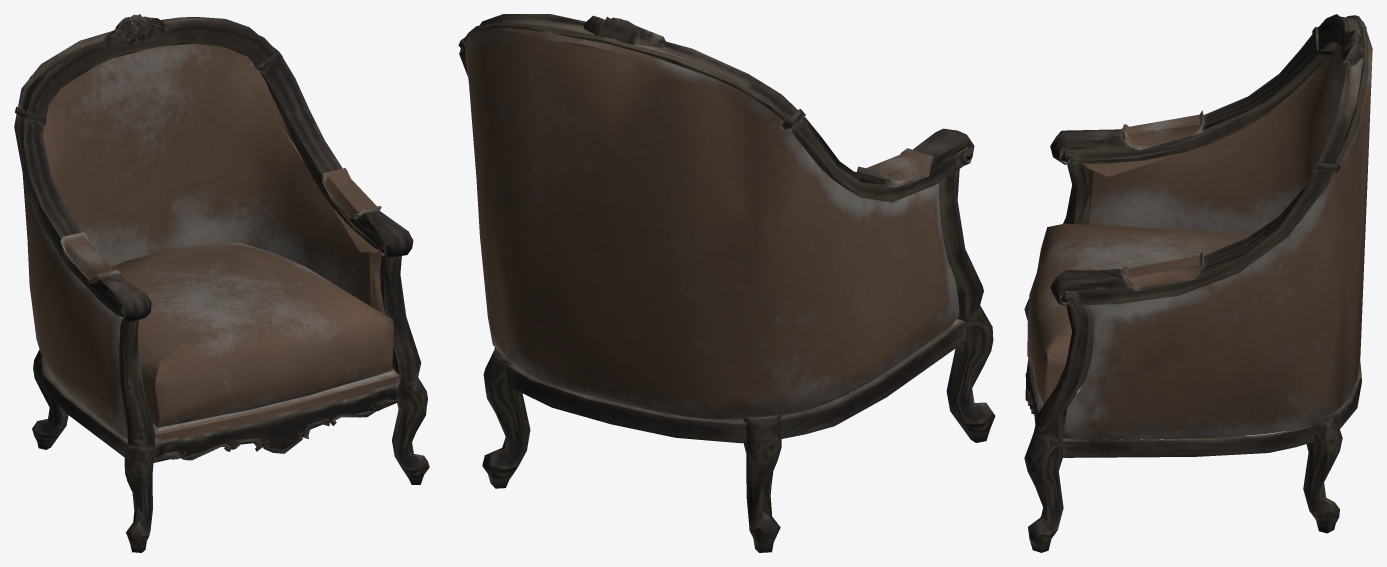
The model's file is ArmChair_01.fbx.
3 renders of one model, left to right at view 1: azimuth 30°, elevation 25°; view 2: azimuth 150°, elevation 25°; view 3: azimuth 270°, elevation 25°, orthographic. The views are drawn at different scales.
Visible parts, largest first — view 1: ArmChair_01; view 2: ArmChair_01; view 3: ArmChair_01.
Part boxes in pixels (x1=…): ArmChair_01: x1=14, y1=14, x2=429, y2=552; ArmChair_01: x1=458, y1=14, x2=995, y2=552; ArmChair_01: x1=1024, y1=14, x2=1372, y2=552.
Bounding box in the file's own units: 0.8498 × 1.06 × 0.7648.
